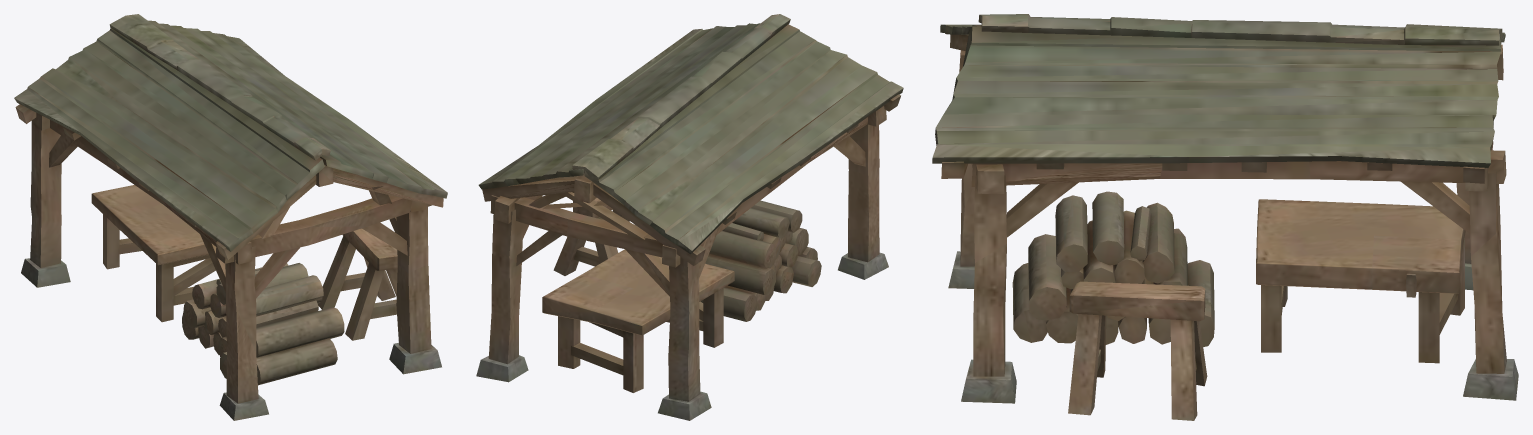
File: lumber_camp.glb
The picture shows the model from 3 angles, left to right: view 1: azimuth 30°, elevation 25°; view 2: azimuth 150°, elevation 25°; view 3: azimuth 270°, elevation 25°; orthographic projection. The views are drawn at different scales.
Visible parts, largest first — view 1: tripo_node_cc39ce42-9da9-48e4-b61c-2e74564af4f2; view 2: tripo_node_cc39ce42-9da9-48e4-b61c-2e74564af4f2; view 3: tripo_node_cc39ce42-9da9-48e4-b61c-2e74564af4f2.
Part boxes in pixels (x1,y1,x2,y2): tripo_node_cc39ce42-9da9-48e4-b61c-2e74564af4f2: (14,14,447,420); tripo_node_cc39ce42-9da9-48e4-b61c-2e74564af4f2: (476,14,903,420); tripo_node_cc39ce42-9da9-48e4-b61c-2e74564af4f2: (932,14,1518,420).
Size of the model in its own units: 0.6727 by 0.6034 by 1.
1 material, 1 textured.
